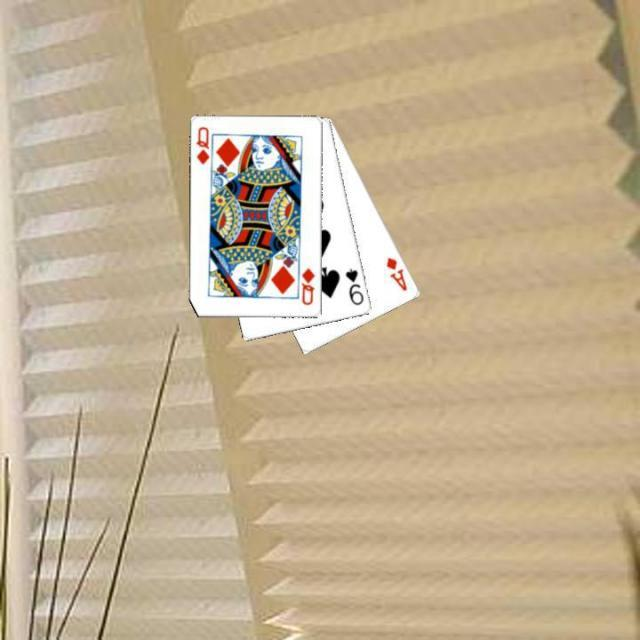9S: (343, 265, 366, 307)
AD: (382, 254, 408, 294)
QD: (298, 264, 318, 306), (193, 124, 211, 166)
